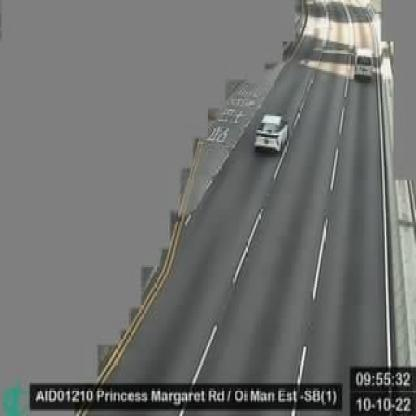Car: (253, 113, 289, 154), (354, 45, 375, 82)
